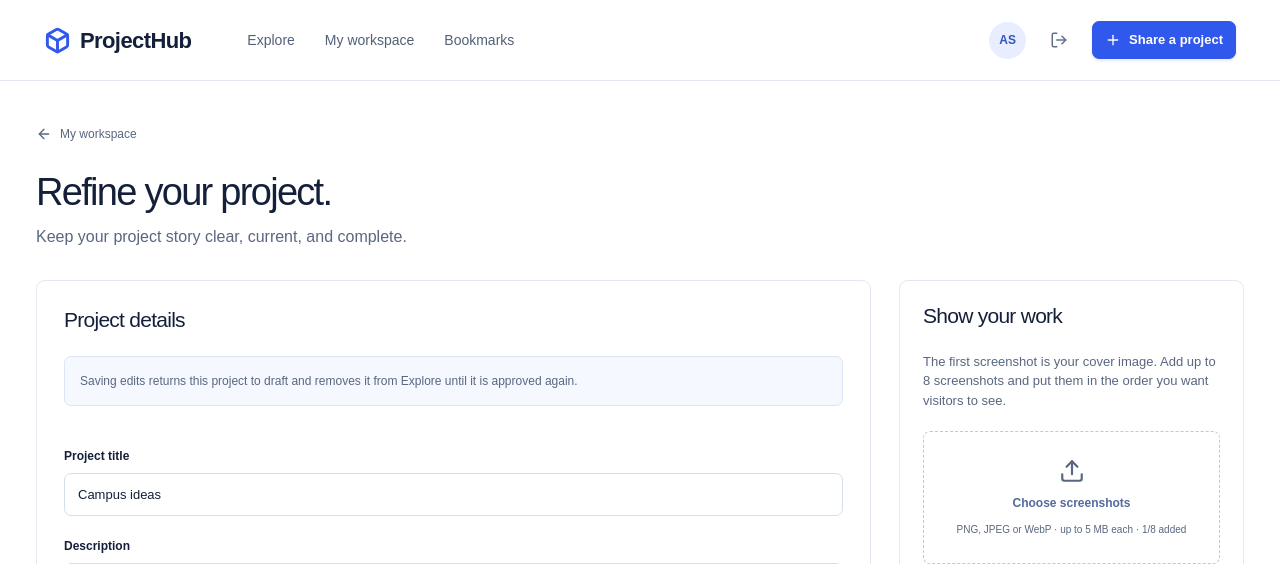
it: expired-session project save retains title, description, screenshots and focused error
Replace the text in the field labelled "Project title" with "My unsaved title" at (454, 495), box [64,473,843,516]
(page scrolled)
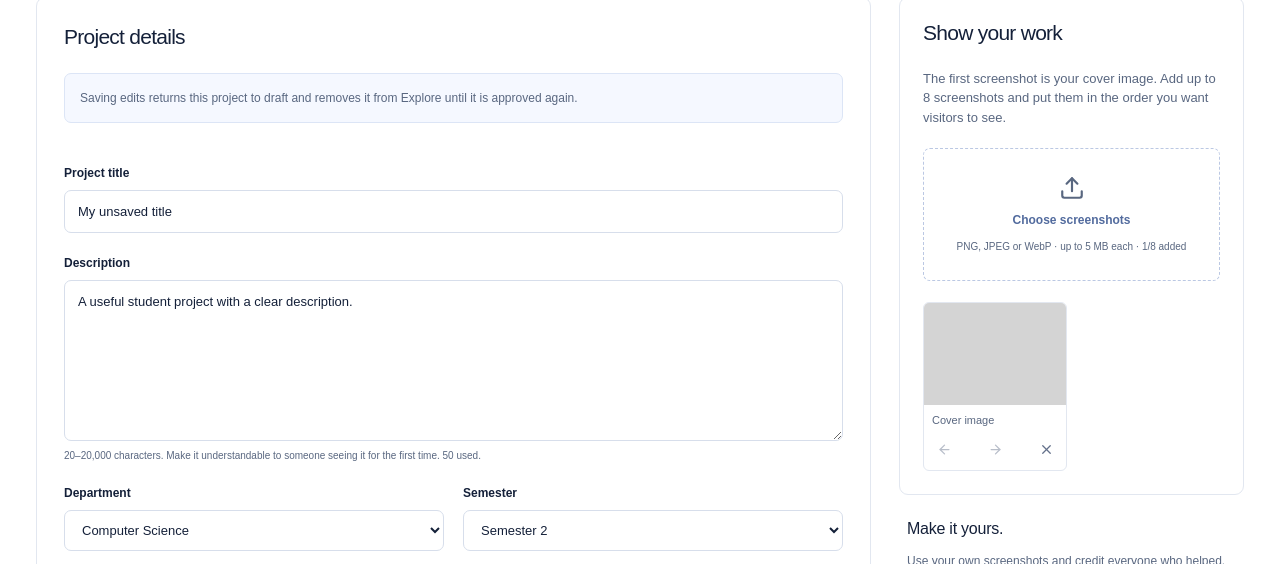
Replace the text in the text box labelled "Description" with "My lengthy unsaved project description." at (454, 361), box [64,280,843,441]
(page scrolled)
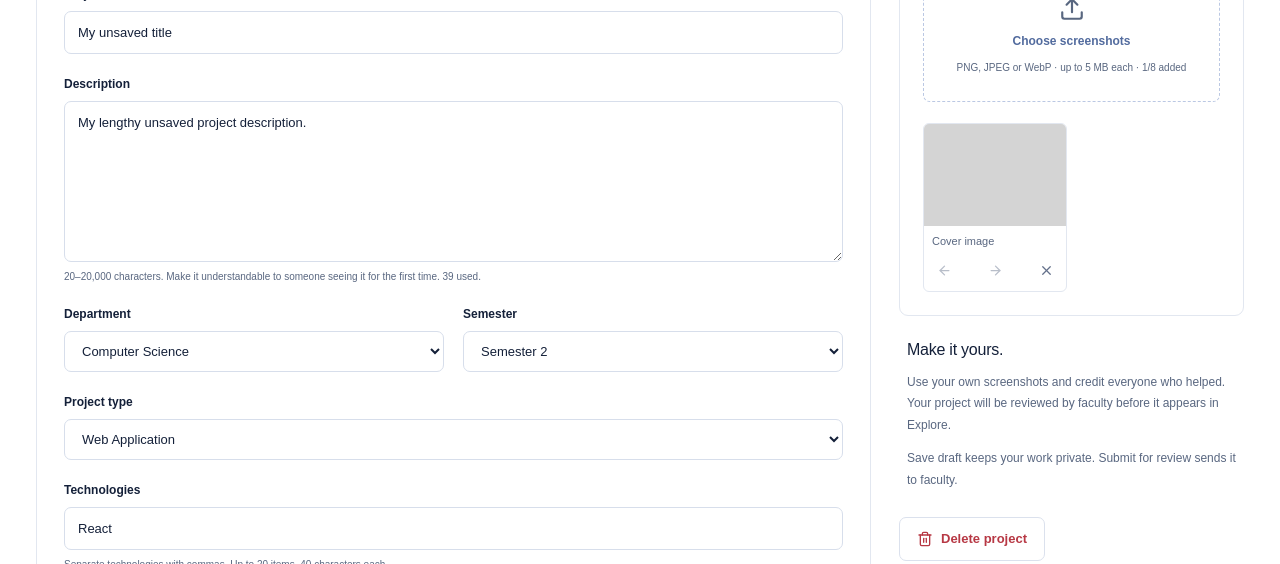
Submit the form named "Project title"
(page scrolled)
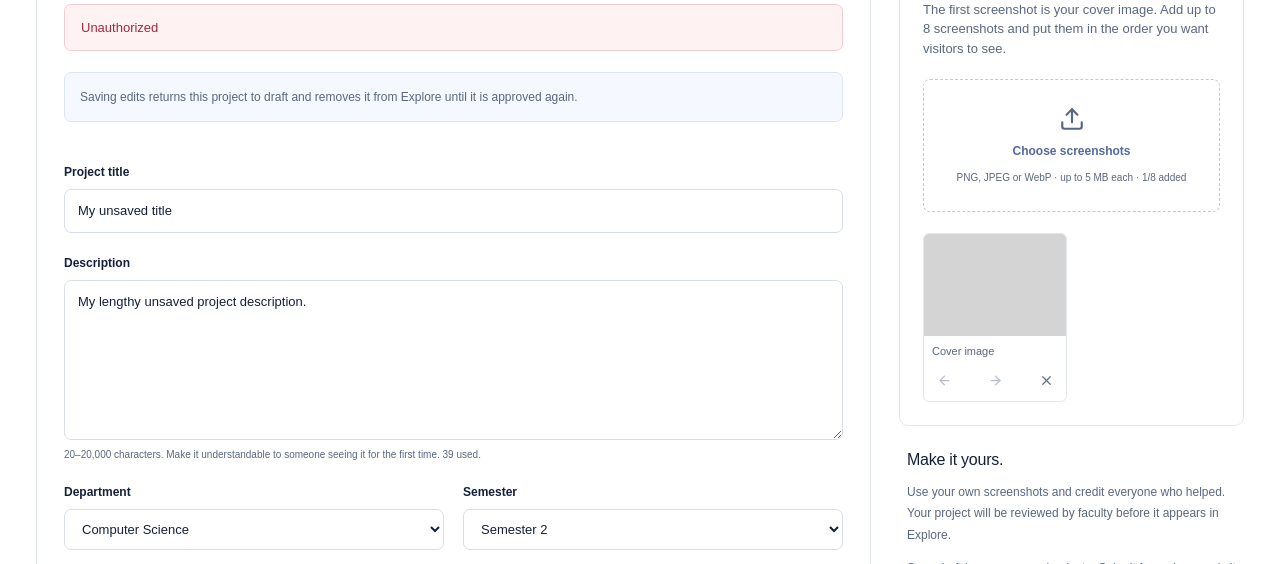
Expected: the message "Unauthorized" is shown, [64,4,843,51]
